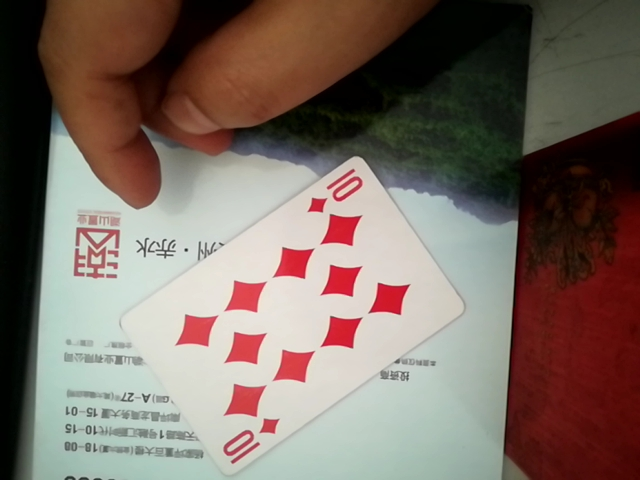fk 10: (144, 155, 460, 468)
